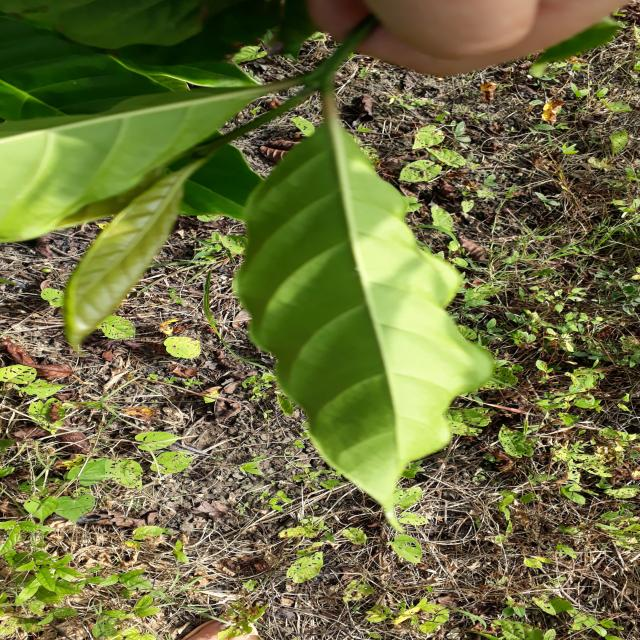Sanas: (234, 21, 502, 524)
